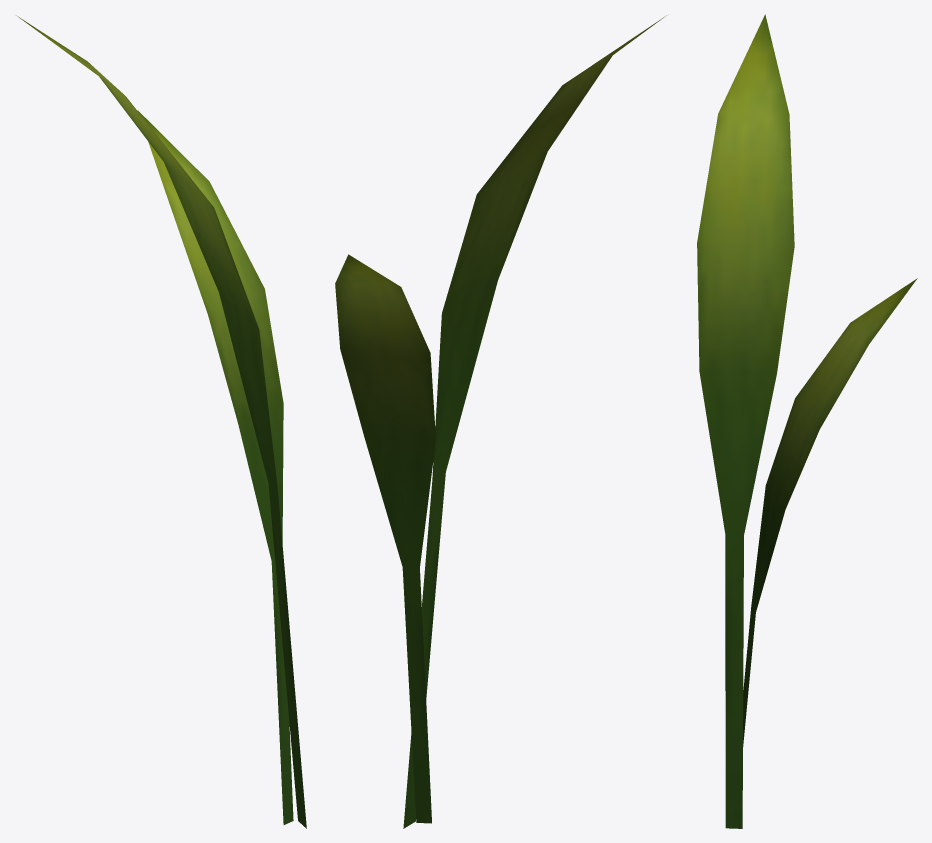
File: plant_yewai_cao02.FBX
3 views of the same model, side by side, from view 1: azimuth 30°, elevation 25°; view 2: azimuth 150°, elevation 25°; view 3: azimuth 270°, elevation 25° (orthographic). The views are drawn at different scales.
Visible parts, largest first — view 1: plant_yewai_cao02; view 2: plant_yewai_cao02; view 3: plant_yewai_cao02.
Part boxes in pixels (<box>): plant_yewai_cao02: <box>16,15,306,828</box>; plant_yewai_cao02: <box>335,15,666,828</box>; plant_yewai_cao02: <box>697,14,917,828</box>.
Size of the model in its own units: 1.01 by 2.92 by 0.8277.
